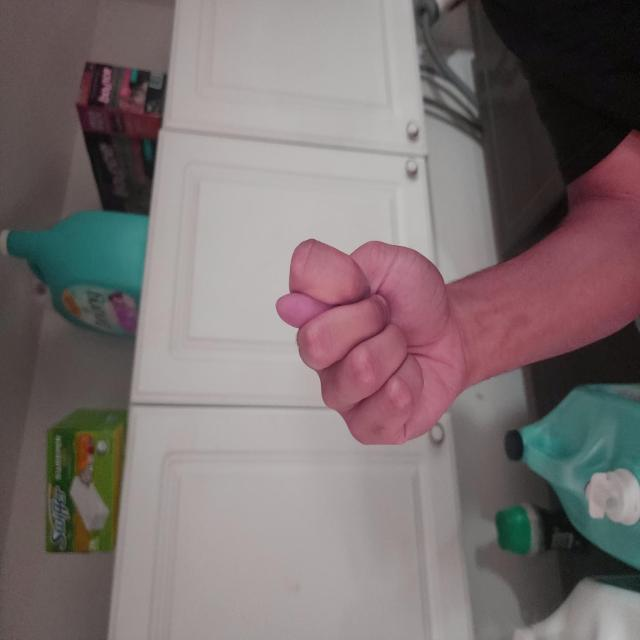T: (142, 362, 307, 628)
